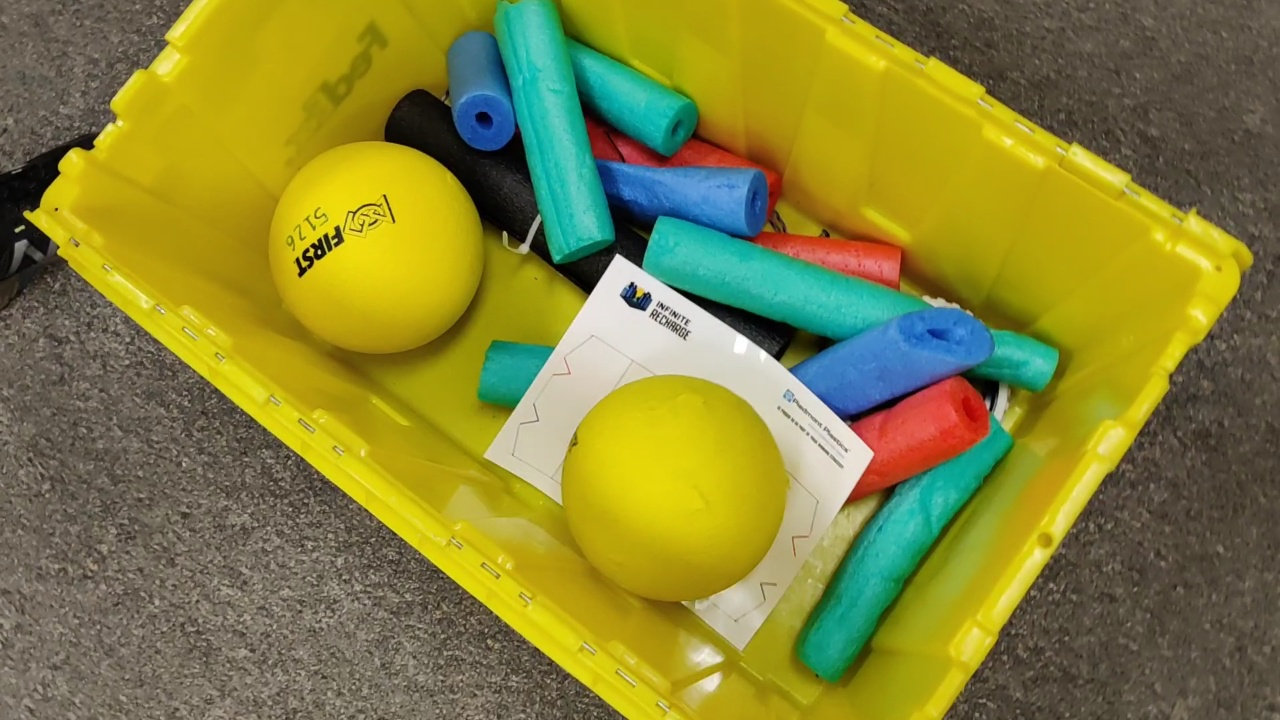Ball: (558, 375, 787, 602), (266, 140, 486, 359)
